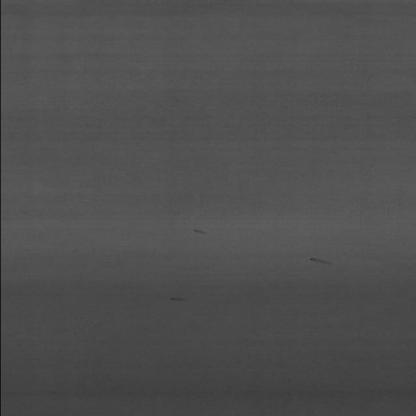water_spot: (301, 256, 341, 277), (163, 292, 189, 312), (186, 224, 210, 240)
